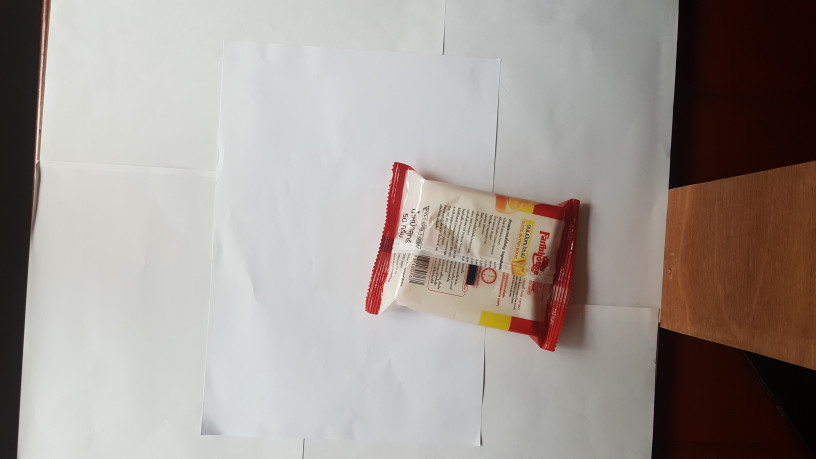farmhouse-bread-butter: (352, 152, 595, 352)
